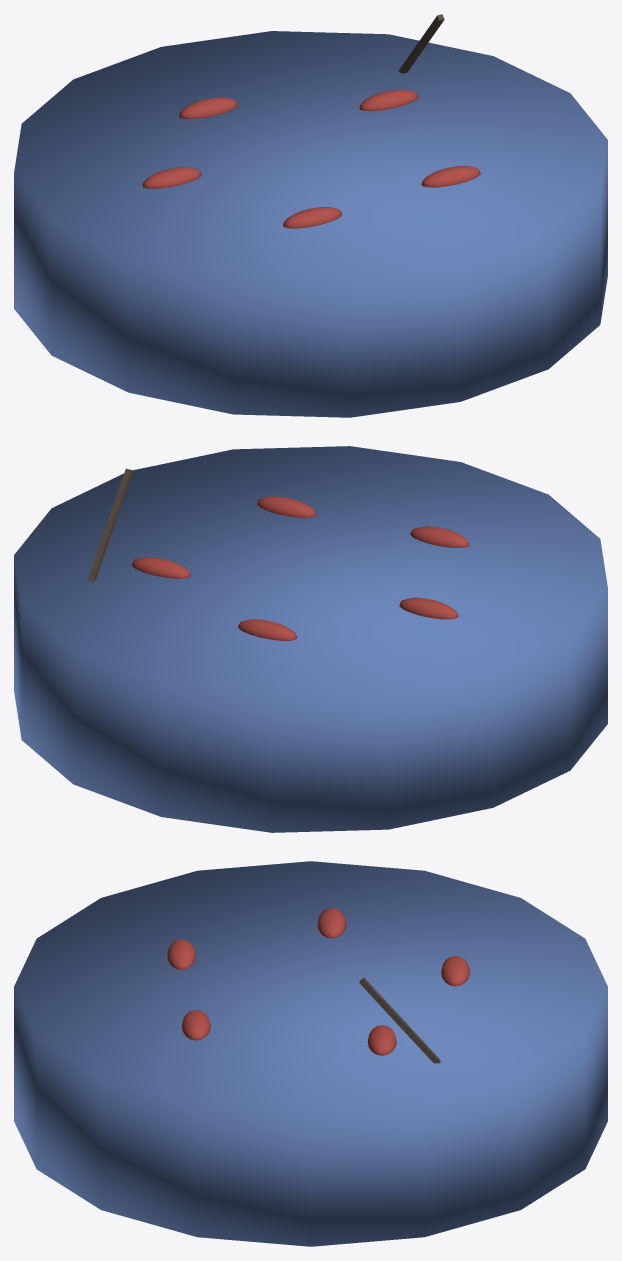
Rendered from prop_kingyo.glb.
3 renders of one model, top to bottom at view 1: azimuth 30°, elevation 25°; view 2: azimuth 150°, elevation 25°; view 3: azimuth 270°, elevation 25°, orthographic.
Visible parts, largest first — view 1: kingyo; view 2: kingyo; view 3: kingyo.
Boxes of the visible parts, bbox=[...] form: kingyo: bbox=[14, 14, 607, 417]; kingyo: bbox=[14, 446, 607, 832]; kingyo: bbox=[14, 861, 607, 1246].
Bounding box in the file's own units: 2 × 0.8096 × 2.
